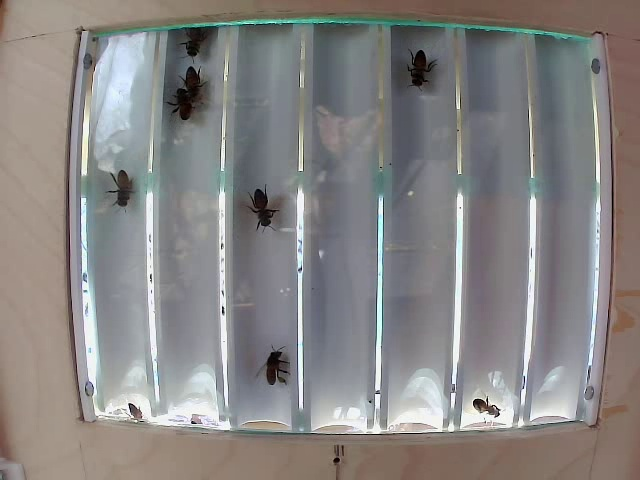bee: (258, 331, 306, 394), (97, 153, 141, 209), (459, 383, 510, 423), (243, 178, 278, 235), (179, 25, 223, 61), (179, 70, 217, 109), (403, 48, 434, 95), (164, 97, 199, 129)
